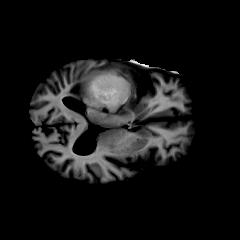glioma: (74, 70, 139, 113)
